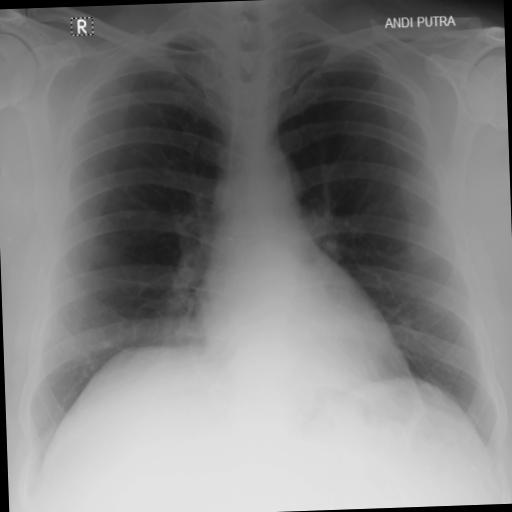normal: (4, 0, 507, 495)
